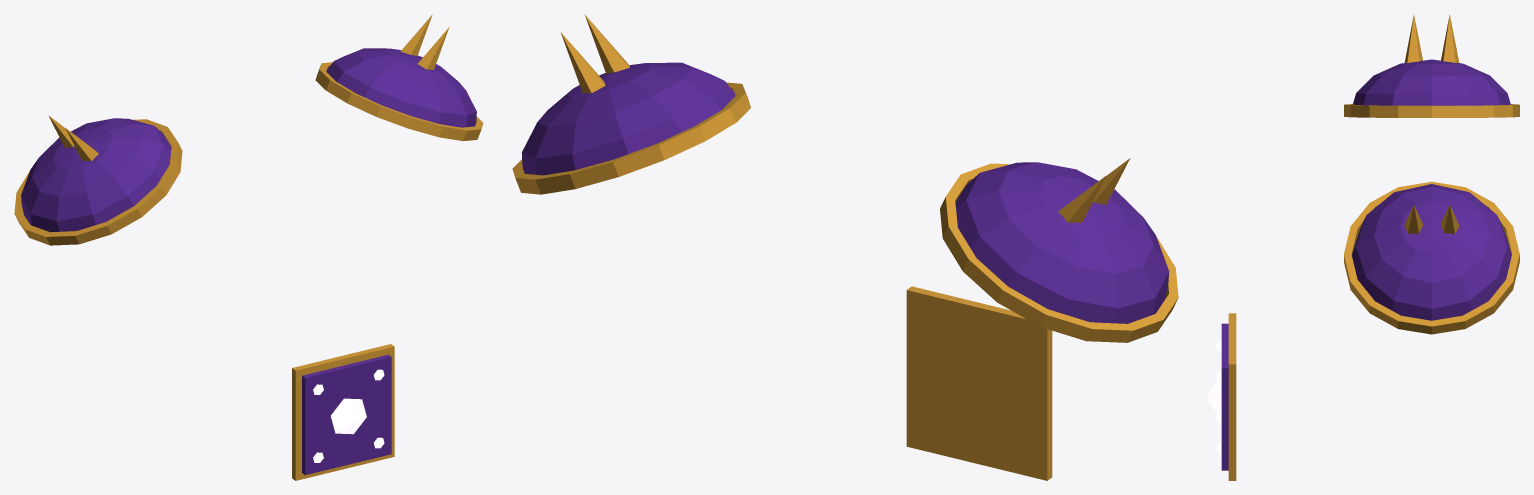
The model's file is armor_knight_chest_epic_human.glb.
The picture shows the model from 3 angles, left to right: view 1: azimuth 30°, elevation 25°; view 2: azimuth 150°, elevation 25°; view 3: azimuth 270°, elevation 25°; orthographic projection. The views are drawn at different scales.
Visible parts, largest first — view 1: armor_knight_chest_epic_human__clavicle_r, armor_knight_chest_epic_human__spine_03, armor_knight_chest_epic_human__clavicle_l; view 2: armor_knight_chest_epic_human__clavicle_r, armor_knight_chest_epic_human__spine_03, armor_knight_chest_epic_human__clavicle_l; view 3: armor_knight_chest_epic_human__clavicle_l, armor_knight_chest_epic_human__clavicle_r, armor_knight_chest_epic_human__spine_03.
Boxes of the visible parts, x1,y1,x2,y2 form: armor_knight_chest_epic_human__clavicle_r: (14, 115, 182, 245); armor_knight_chest_epic_human__spine_03: (292, 344, 394, 480); armor_knight_chest_epic_human__clavicle_l: (315, 14, 483, 141); armor_knight_chest_epic_human__clavicle_r: (940, 158, 1178, 342); armor_knight_chest_epic_human__spine_03: (906, 286, 1052, 480); armor_knight_chest_epic_human__clavicle_l: (512, 14, 750, 194); armor_knight_chest_epic_human__clavicle_l: (1344, 181, 1519, 334); armor_knight_chest_epic_human__clavicle_r: (1344, 14, 1519, 117); armor_knight_chest_epic_human__spine_03: (1207, 313, 1236, 480).
Bounding box in the file's own units: 71.45 × 50.48 × 40.86.
